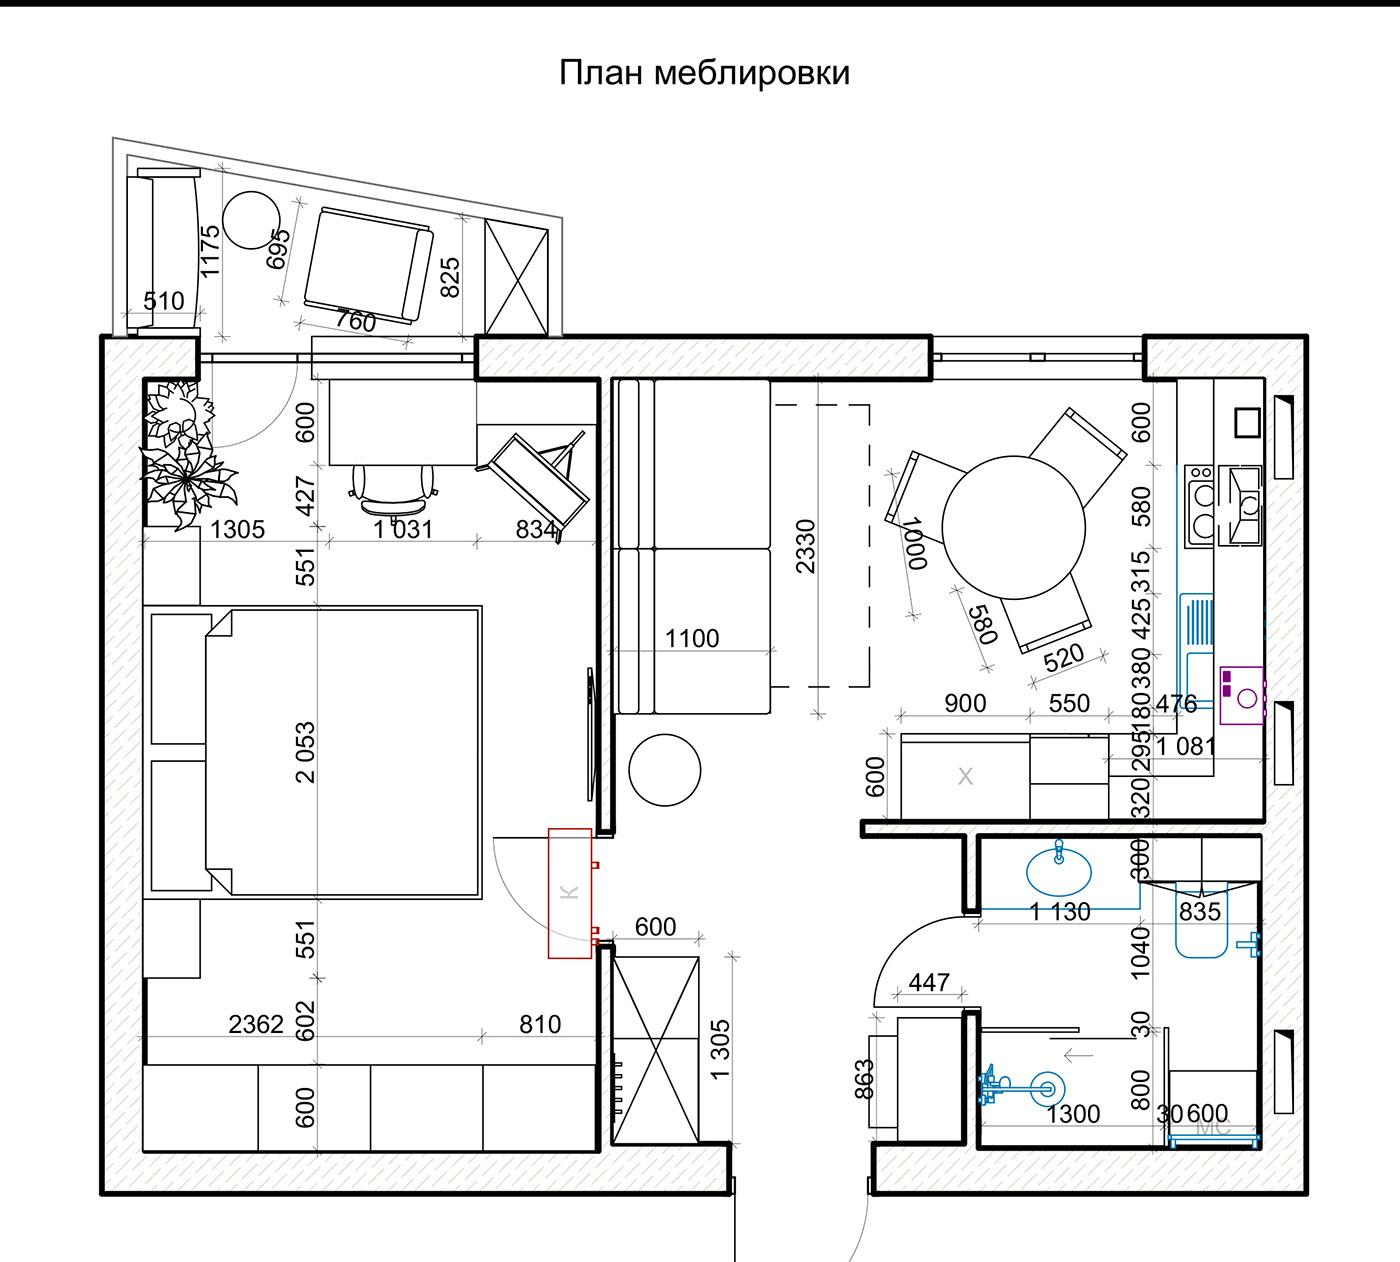bathroom: (980, 836, 1257, 1147)
bedroom: (143, 382, 596, 1152)
hallway: (617, 837, 965, 1145)
kitchen: (617, 380, 1266, 821)
terrace: (124, 153, 548, 333)
